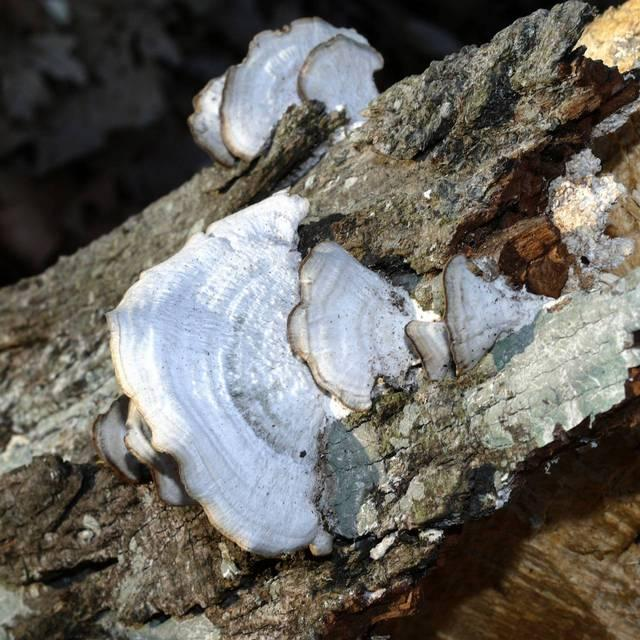Non-edible Mushroom: (118, 157, 444, 589), (185, 14, 385, 173)
